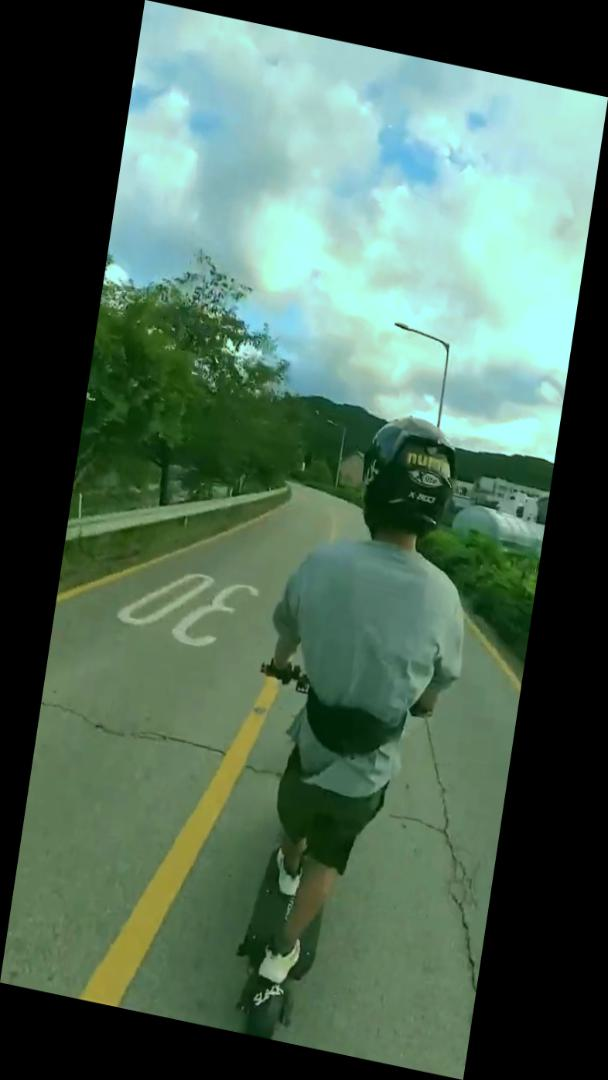helmet: (201, 391, 498, 1068)
